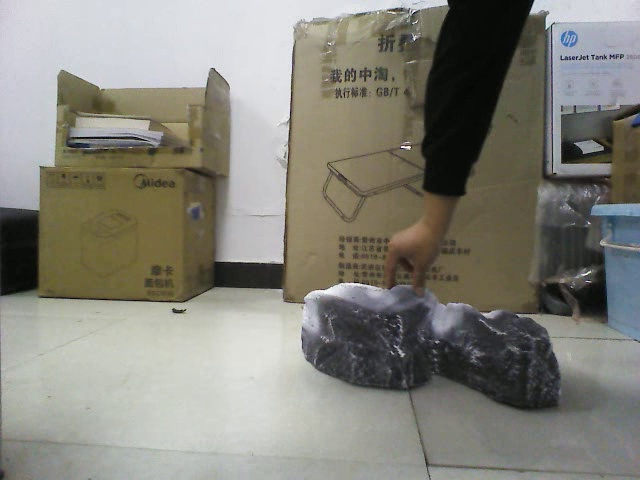rock: (294, 276, 561, 410)
